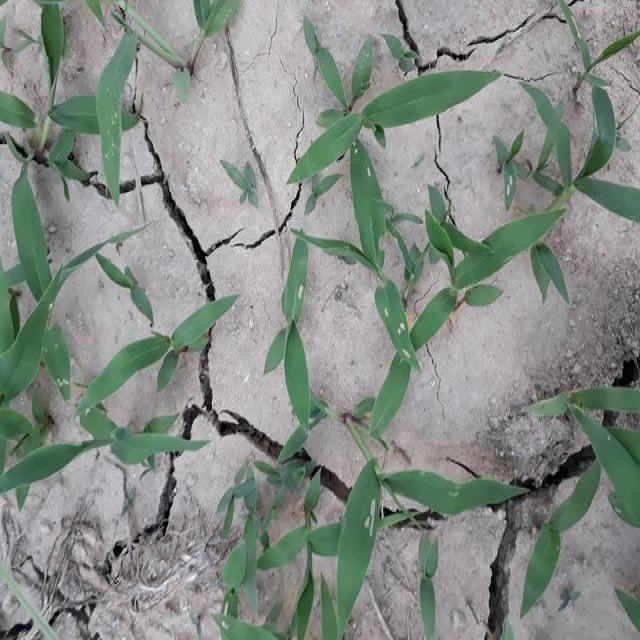weed: (276, 44, 546, 375), (209, 435, 640, 601), (0, 0, 129, 504)
